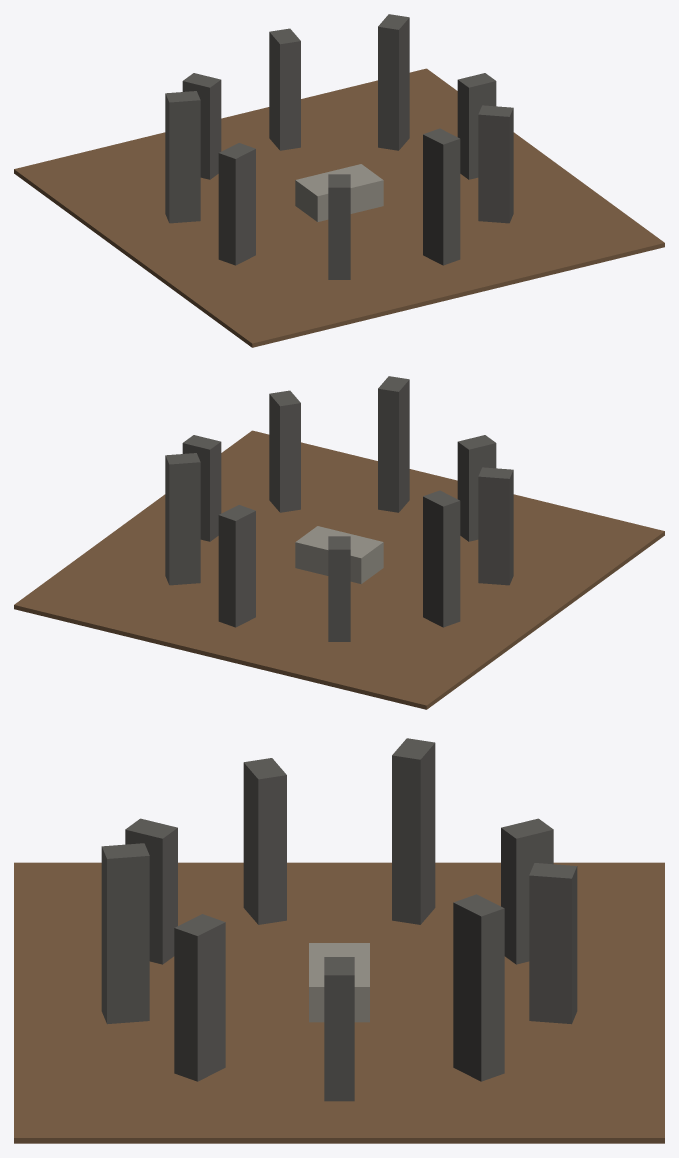
Rendered from bld_special_temple_a01_lod2.glb.
3 views of the same model, one above another, from view 1: azimuth 30°, elevation 25°; view 2: azimuth 150°, elevation 25°; view 3: azimuth 270°, elevation 25° (orthographic). The views are drawn at different scales.
Visible parts, largest first — view 1: body; view 2: body; view 3: body.
Boxes of the visible parts, left/top/right/bottom form: body: left=14, top=14, right=664, bottom=347; body: left=14, top=376, right=664, bottom=709; body: left=14, top=738, right=664, bottom=1143.
Bounding box in the file's own units: 15 × 4.35 × 15.
